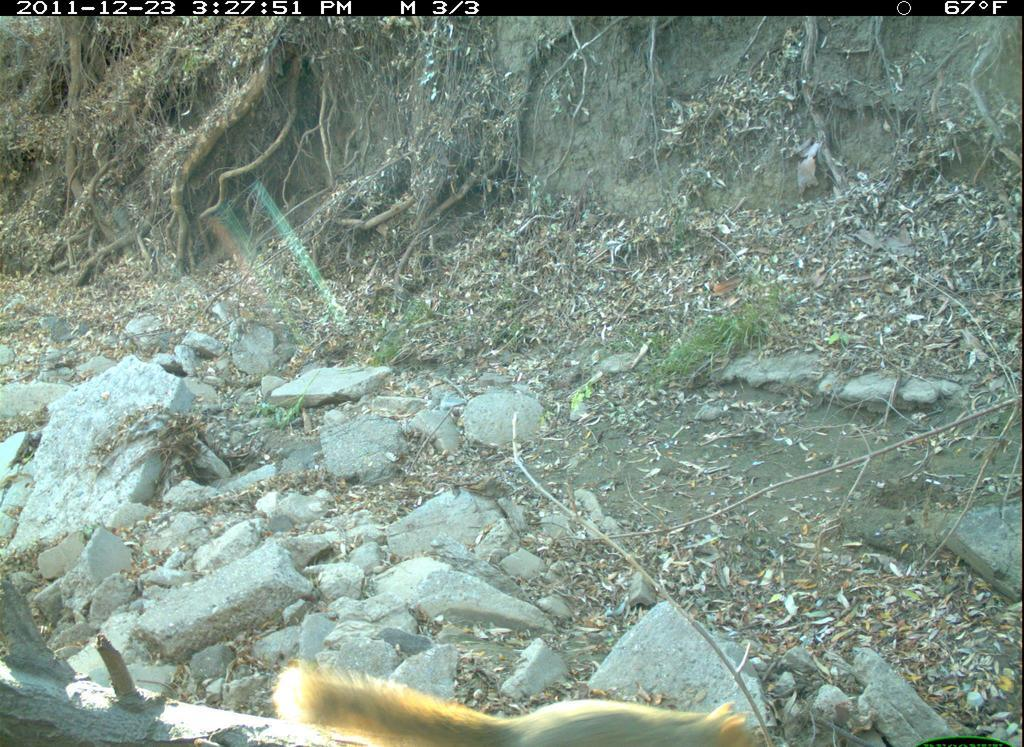squirrel: (245, 628, 792, 747)
